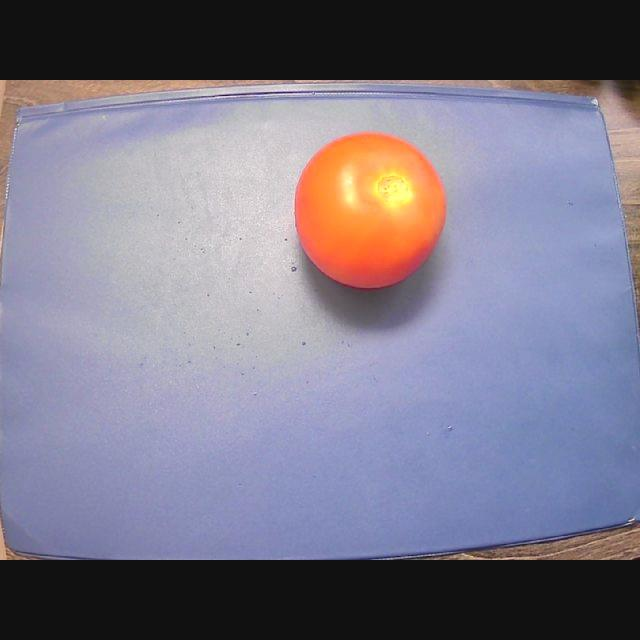tomate: (295, 133, 445, 287)
